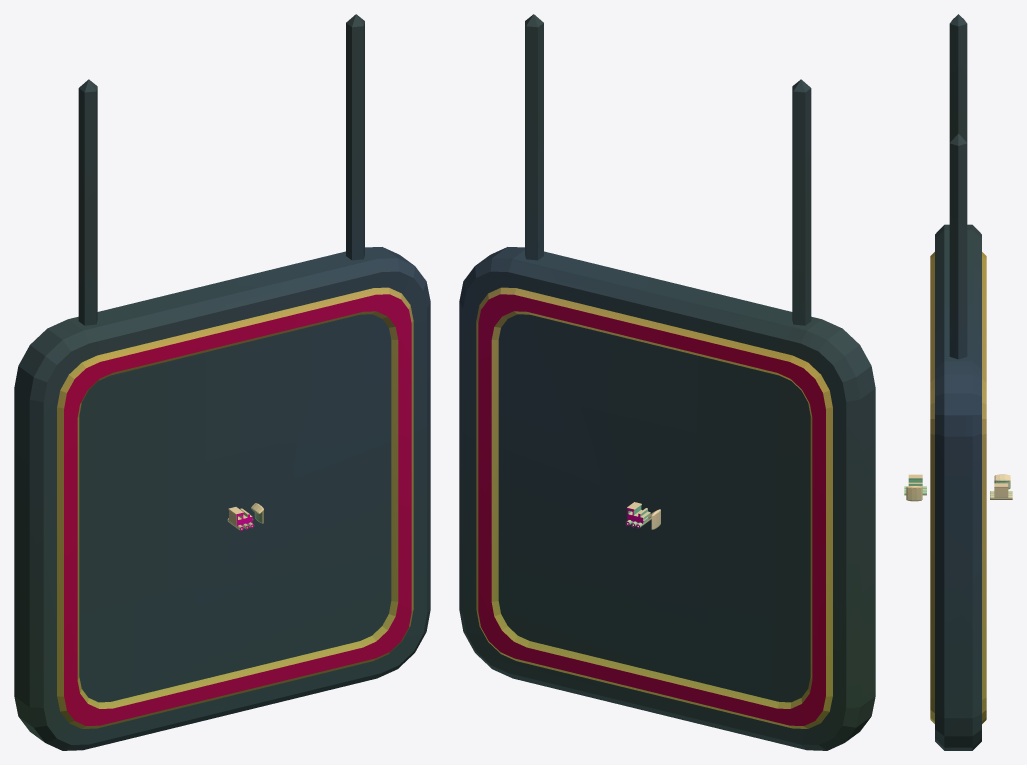
File: GS_PlatformSign.glb
3 views of the same model, side by side, from view 1: azimuth 30°, elevation 25°; view 2: azimuth 150°, elevation 25°; view 3: azimuth 270°, elevation 25° (orthographic). The views are drawn at different scales.
Parts seen in each view (by area): view 1: GS_PlatformSign; view 2: GS_PlatformSign; view 3: GS_PlatformSign, Sign_Platform_Back_Icon, Sign_Platform_Icon, Sign_Platform_Text.
Part boxes in pixels (x1,y1,x2,y2): GS_PlatformSign: (14,14,430,750); GS_PlatformSign: (459,14,875,750); GS_PlatformSign: (930,14,986,750); Sign_Platform_Back_Icon: (990,483,1012,499); Sign_Platform_Icon: (904,474,926,495); Sign_Platform_Text: (906,486,922,501).
Bounding box in the file's own units: 0.9 × 1.42 × 0.23.
